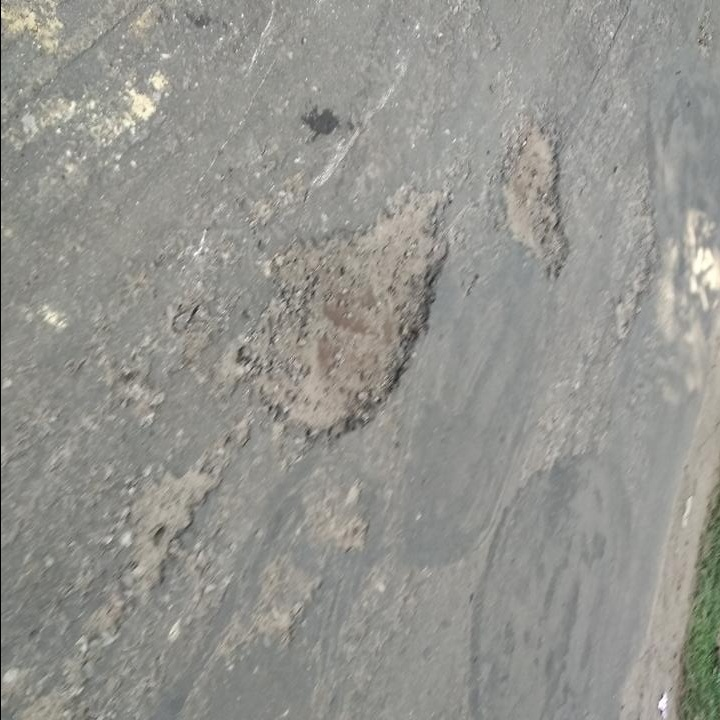pothole: (240, 181, 456, 437), (501, 115, 574, 275)
